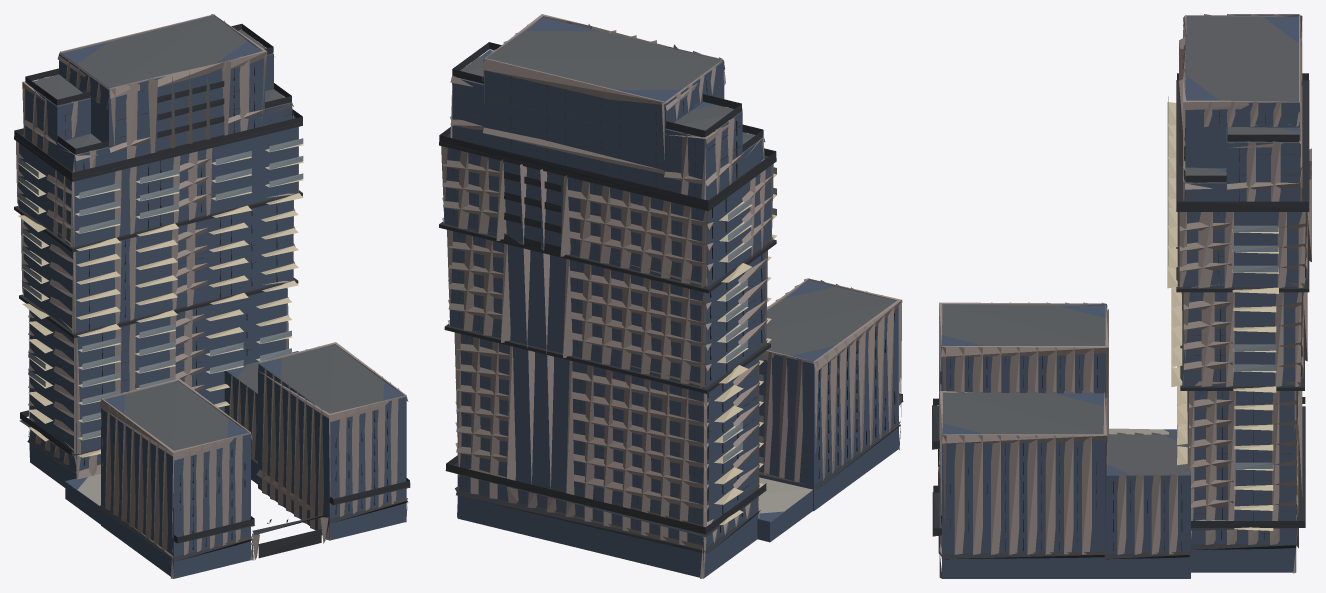
File: xavier-zuidas.lod1.glb
3 views of the same model, side by side, from view 1: azimuth 30°, elevation 25°; view 2: azimuth 150°, elevation 25°; view 3: azimuth 270°, elevation 25° (orthographic). The views are drawn at different scales.
Parts seen in each view (by area): view 1: xavier-zuidas; view 2: xavier-zuidas; view 3: xavier-zuidas.
Boxes of the visible parts, x1=… form: xavier-zuidas: x1=14, y1=14, x2=410, y2=578; xavier-zuidas: x1=439, y1=14, x2=903, y2=578; xavier-zuidas: x1=932, y1=14, x2=1311, y2=578.
Bounding box in the file's own units: 47.3 × 74.3 × 55.85.
